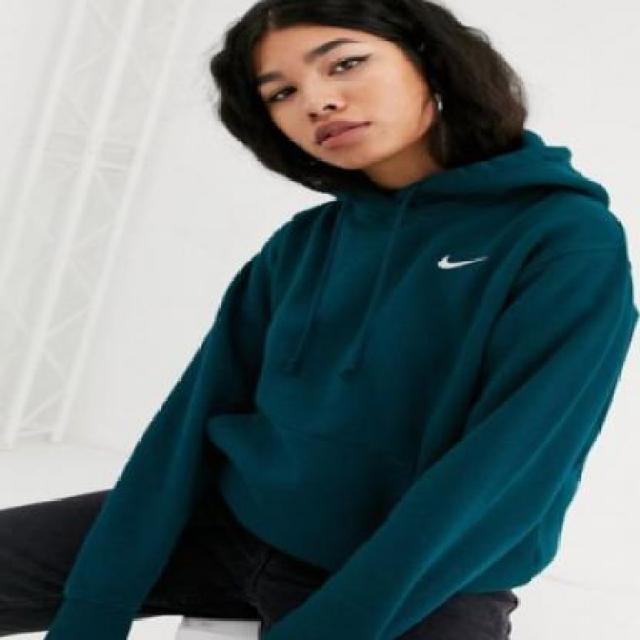Nike: (435, 252, 484, 266)
